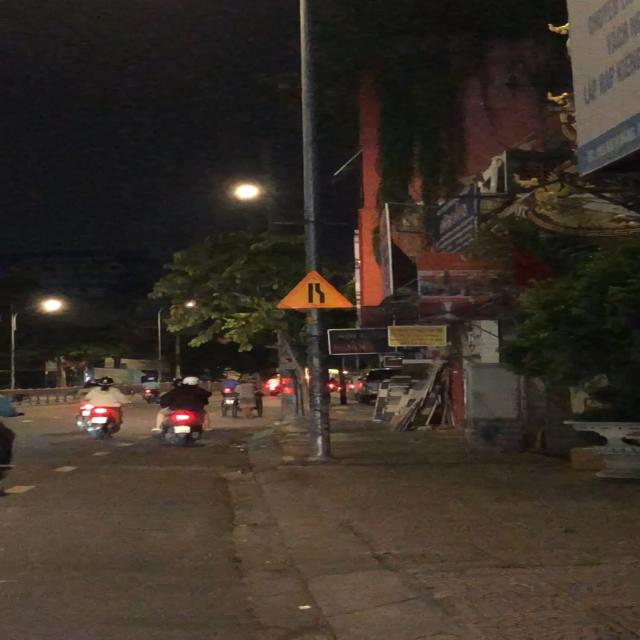Bien bao duong bi thu hep: (274, 269, 357, 310)
